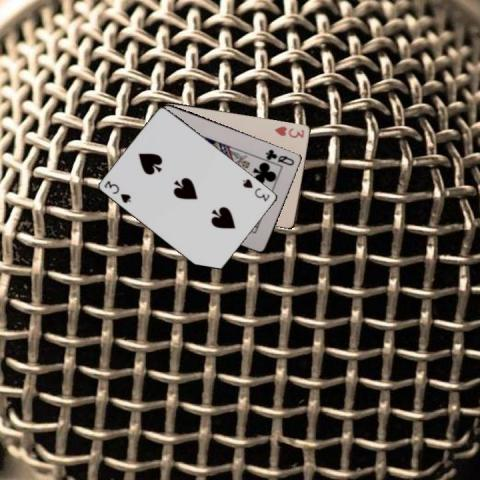3h: (272, 124, 306, 140)
3s: (101, 177, 133, 205), (240, 176, 271, 203)
Qc: (263, 146, 296, 167)
